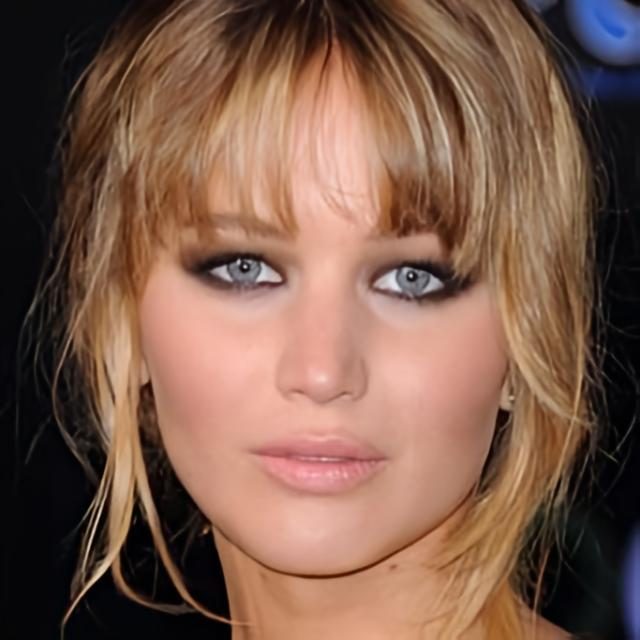sad: (135, 40, 510, 581)
